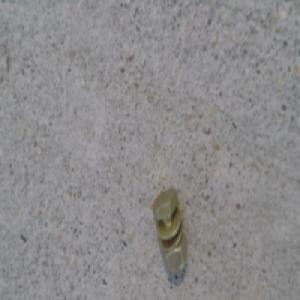BoltNutSet: (152, 186, 187, 275)
